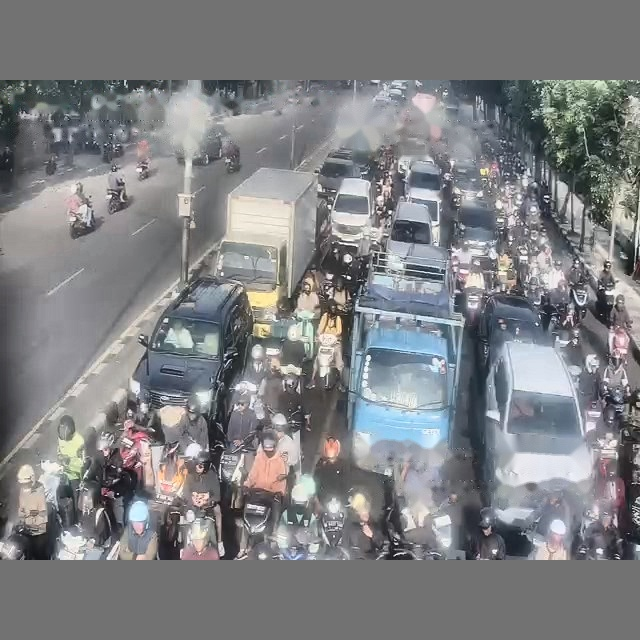Mobil: (479, 342, 592, 526), (130, 276, 252, 420), (476, 293, 548, 381), (405, 161, 441, 243), (386, 201, 432, 259), (452, 204, 497, 256), (328, 137, 374, 180), (317, 157, 360, 200), (192, 126, 227, 165), (453, 165, 485, 204), (398, 153, 434, 174), (388, 88, 406, 105)
Motor: (317, 333, 338, 390), (68, 198, 94, 238), (597, 282, 615, 321), (570, 280, 587, 320), (106, 189, 126, 214), (224, 156, 241, 174), (136, 161, 150, 180)
Truk: (347, 246, 464, 476), (213, 168, 329, 337)
